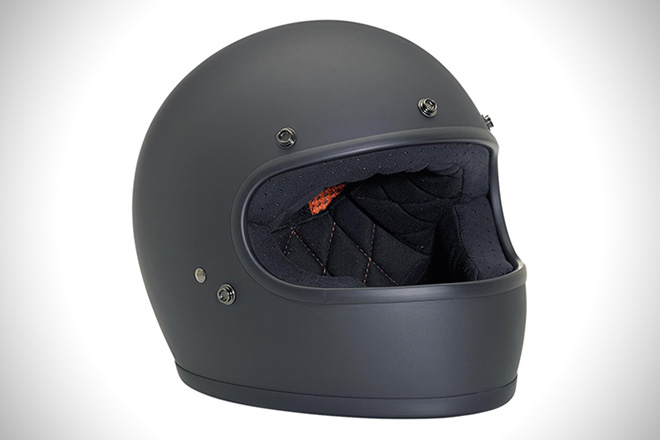with_helmet: (128, 8, 534, 424)
